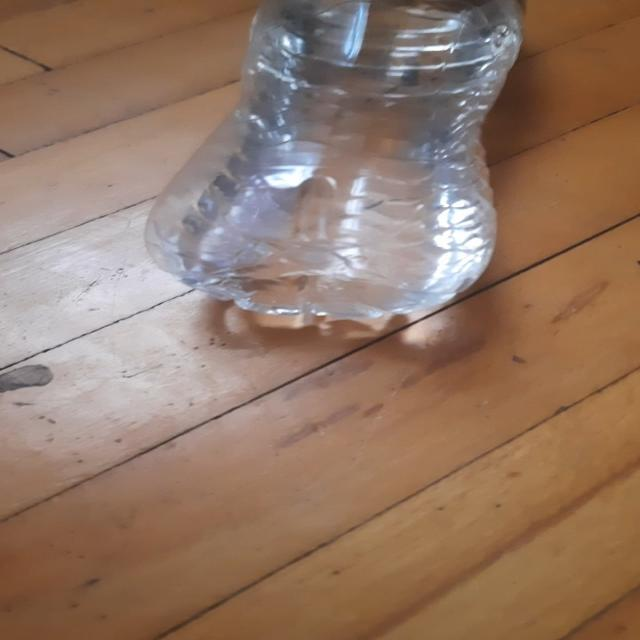Plastic: (143, 0, 526, 337)
